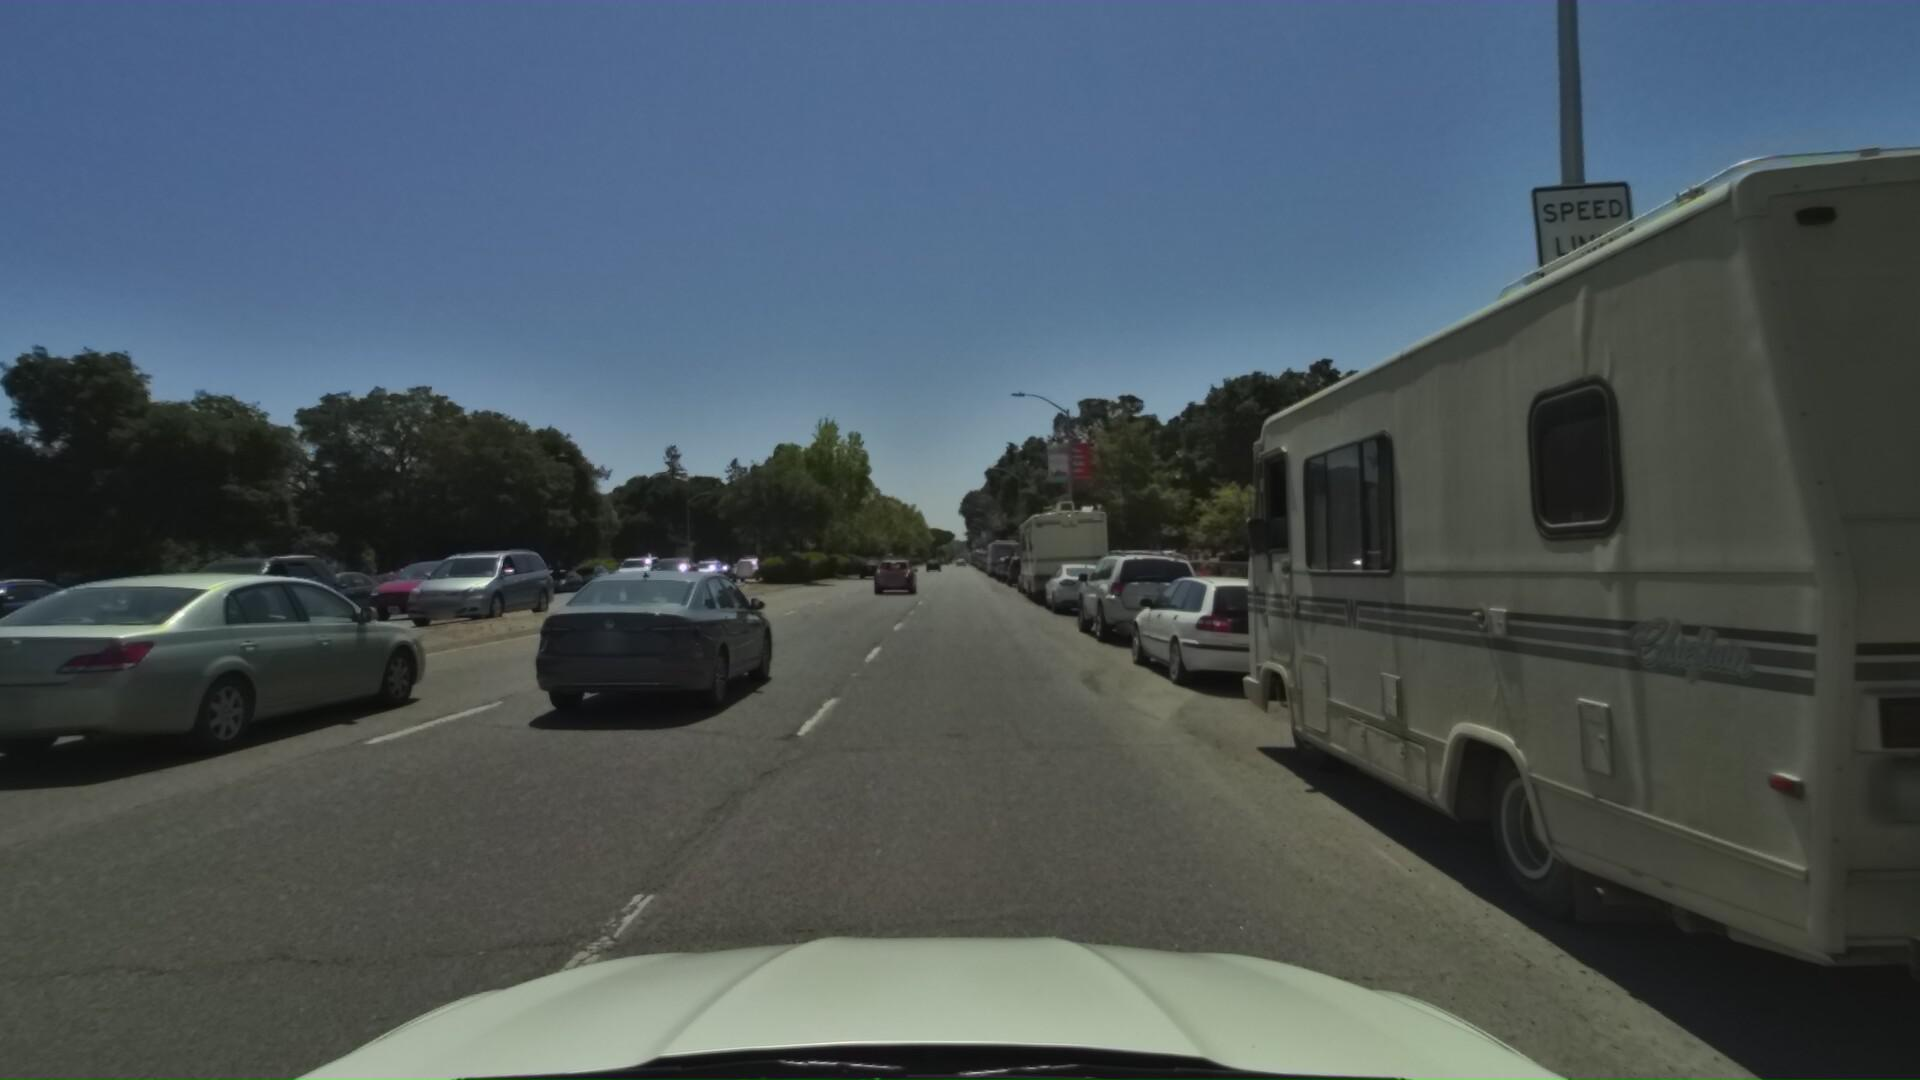car: (0, 564, 447, 800), (512, 562, 781, 744), (1121, 560, 1346, 713), (87, 550, 348, 650), (1069, 538, 1218, 647), (375, 541, 553, 628), (345, 556, 504, 621), (0, 574, 102, 657), (260, 568, 404, 622), (0, 572, 78, 654), (1036, 555, 1122, 617), (640, 553, 705, 593), (603, 550, 671, 587), (0, 572, 20, 679), (868, 554, 916, 596), (1013, 554, 1064, 591), (556, 560, 611, 588), (529, 564, 585, 591), (1004, 545, 1039, 582), (993, 546, 1033, 578), (725, 551, 765, 580), (687, 553, 728, 579), (855, 556, 882, 579)
other_vehicle: (1229, 0, 1920, 1080), (1013, 483, 1117, 605), (982, 530, 1022, 572)
